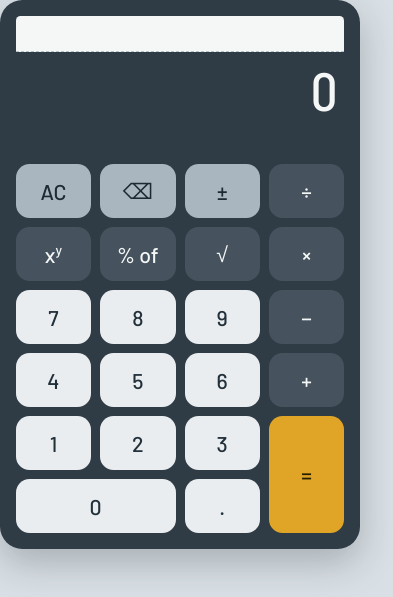
it: Calculator › with the mouse › computes a square root immediately
Step 1. Click the button "9" → [222, 317], box [184,290,260,344]
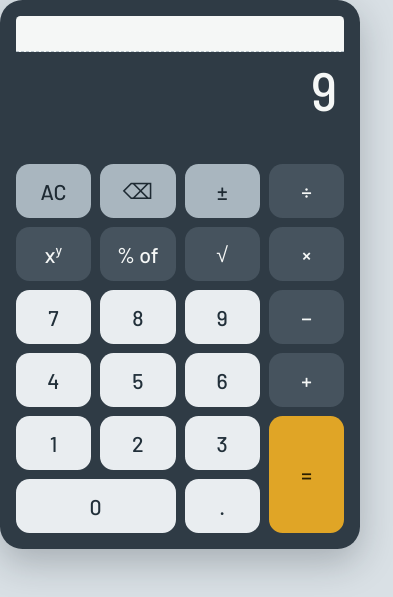
Step 2. Click the button named "Square root" → [222, 254], box [184,227,260,281]
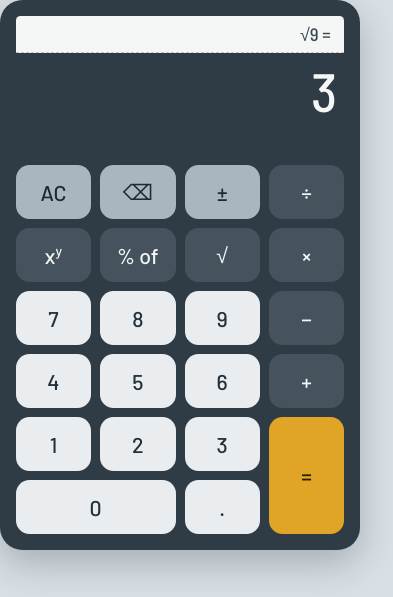
expect the text "3" is shown: met, box [311,58,338,123]
expect the text with test id "tape" reads "√9 =": met, box [300,22,331,44]
